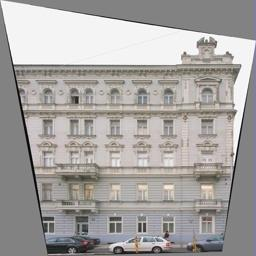building: (8, 32, 233, 235)
